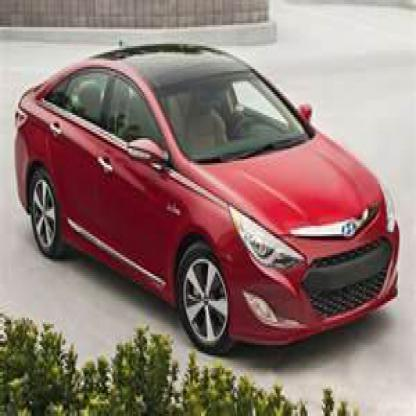Vehicle: (14, 44, 401, 355)
